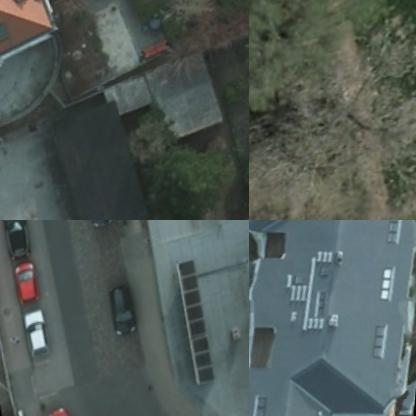car: (19, 306, 59, 366), (107, 283, 148, 336), (9, 259, 50, 305), (0, 220, 37, 262), (249, 309, 261, 375), (47, 402, 100, 415)
